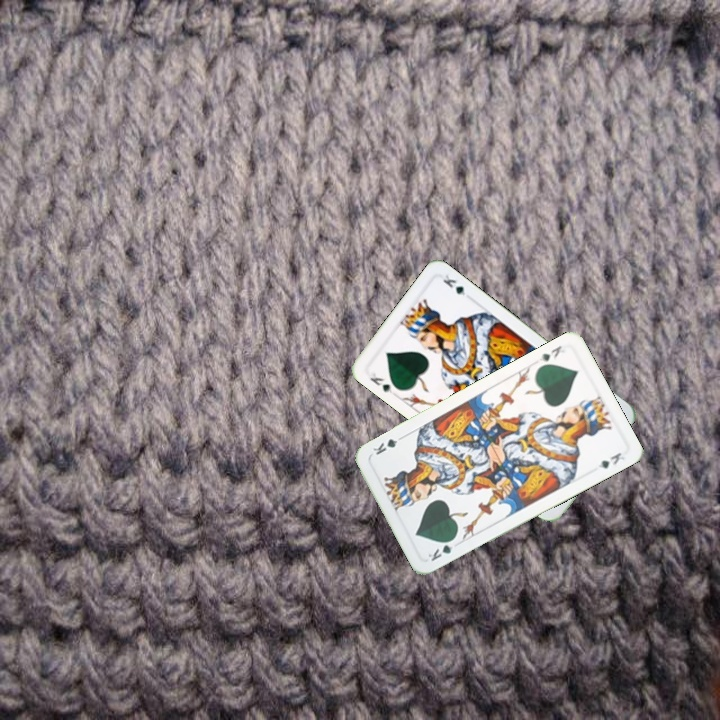GK: (424, 534, 458, 564), (366, 368, 396, 396), (535, 341, 568, 364)
